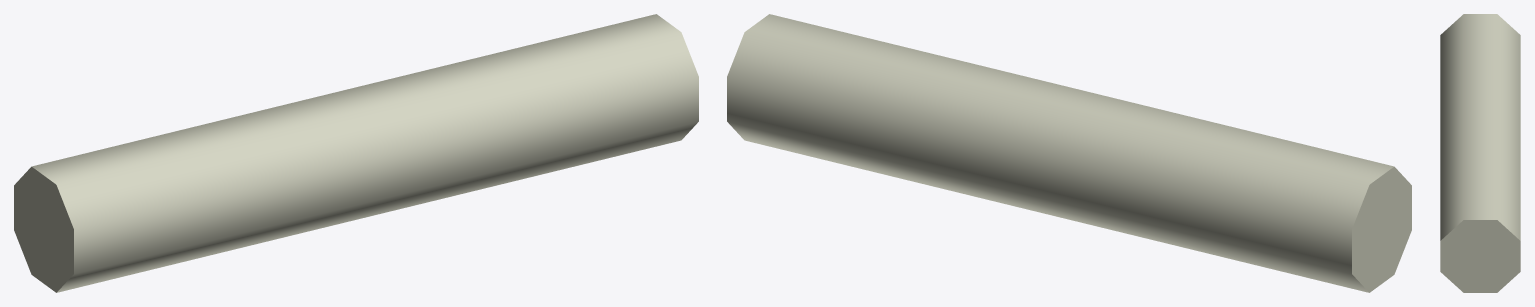
The model's file is 0307_Chalk.glb.
The picture shows the model from 3 angles, left to right: view 1: azimuth 30°, elevation 25°; view 2: azimuth 150°, elevation 25°; view 3: azimuth 270°, elevation 25°; orthographic projection. The views are drawn at different scales.
Parts seen in each view (by area): view 1: part_0; view 2: part_0; view 3: part_0.
Part boxes in pixels (x1,y1,x2,y2): part_0: (14, 14, 698, 292); part_0: (727, 14, 1411, 292); part_0: (1440, 14, 1520, 292).
Size of the model in its own units: 0.065 by 0.0108 by 0.0108.
Materials: 1 (1 with a texture image).
